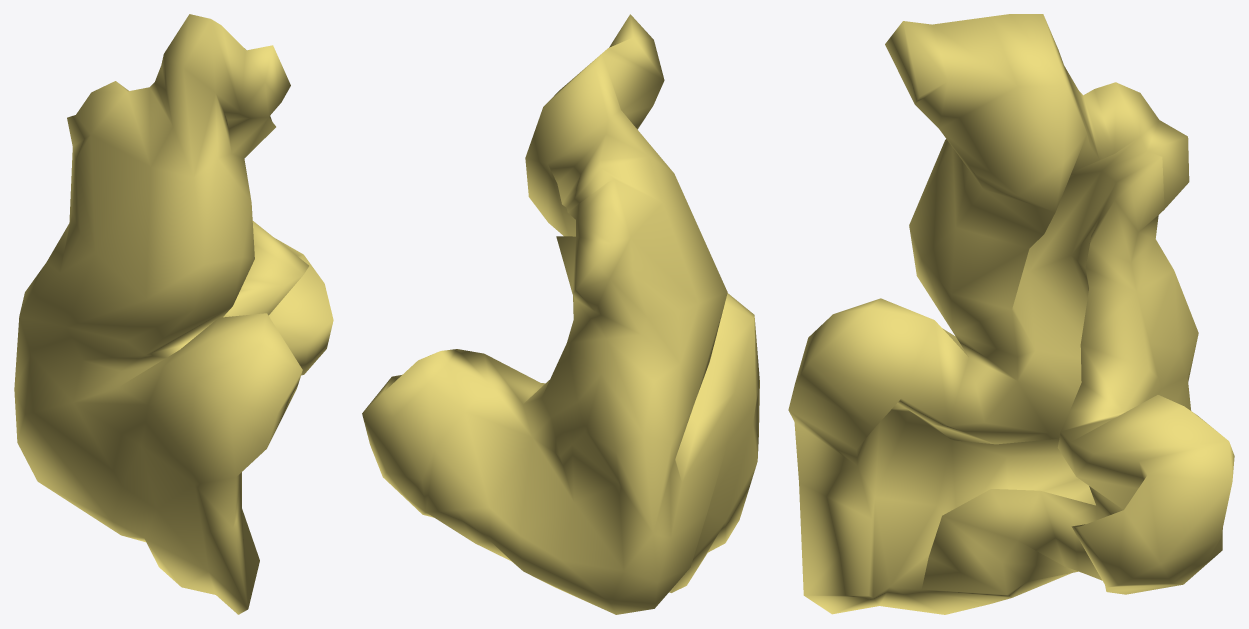
File: triangular-part-of-inferior-frontal-gyrus-r.glb
3 views of the same model, side by side, from view 1: azimuth 30°, elevation 25°; view 2: azimuth 150°, elevation 25°; view 3: azimuth 270°, elevation 25° (orthographic). The views are drawn at different scales.
Parts seen in each view (by area): view 1: Triangular part of inferior frontal gyrus.r; view 2: Triangular part of inferior frontal gyrus.r; view 3: Triangular part of inferior frontal gyrus.r.
Boxes of the visible parts, x1,y1,x2,y2 form: Triangular part of inferior frontal gyrus.r: (14,14,333,614); Triangular part of inferior frontal gyrus.r: (362,14,759,614); Triangular part of inferior frontal gyrus.r: (788,14,1234,614).
Bounding box in the file's own units: 0.0205 × 0.0353 × 0.0224.
